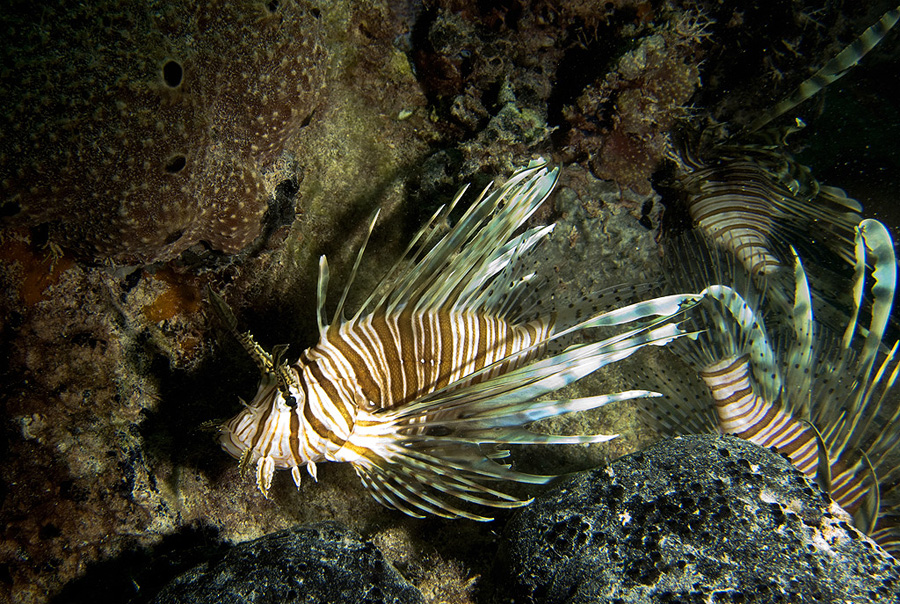Pterois_volitans: (185, 149, 688, 517)
